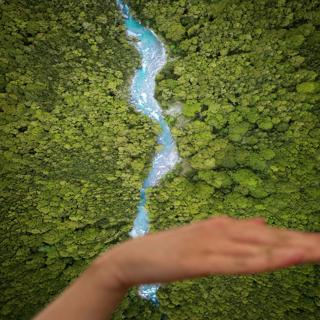WAIT: (114, 206, 320, 289)
